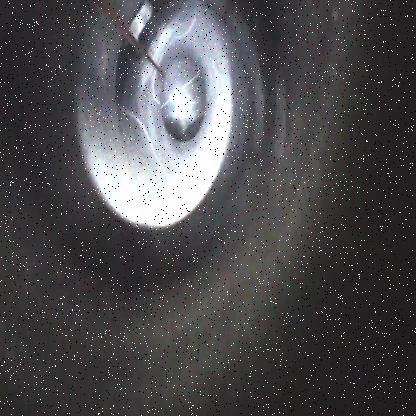NoCrack: (81, 0, 264, 229)
